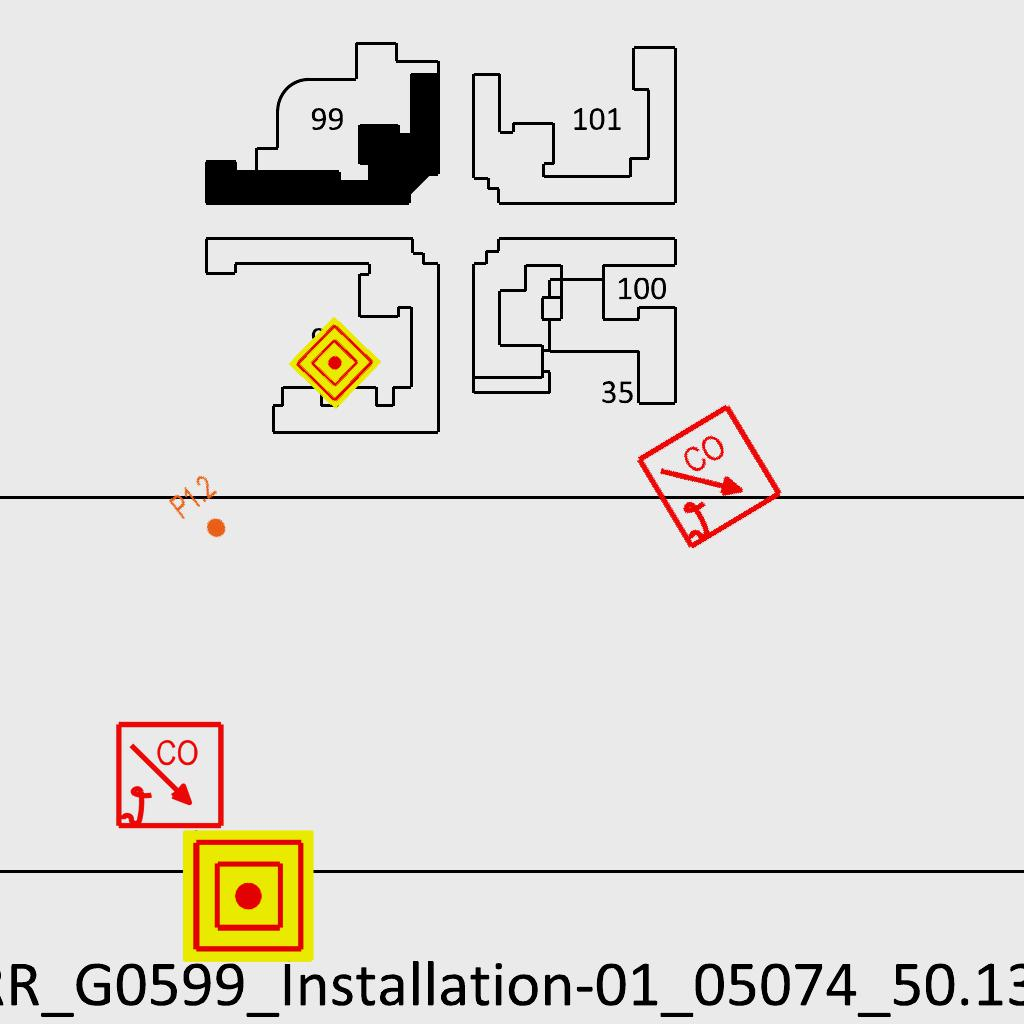Downlight_LED_Einbauleuchten_Flur: (166, 471, 242, 551)
NAM-Nichtautomatischer_Melder: (182, 830, 314, 962), (288, 316, 382, 410)
ROA_Rauchmelder_optisch_mit_Signalgeber_(Sockelsirene): (632, 399, 789, 556), (114, 720, 227, 833)
